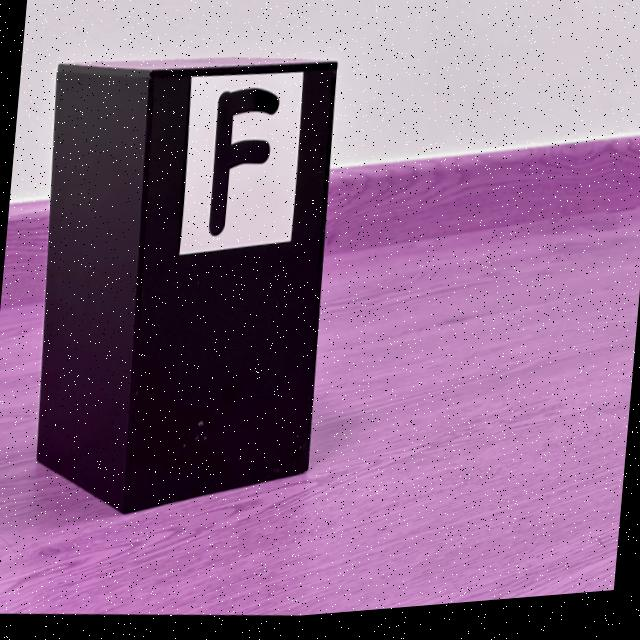F: (208, 92, 278, 239)
